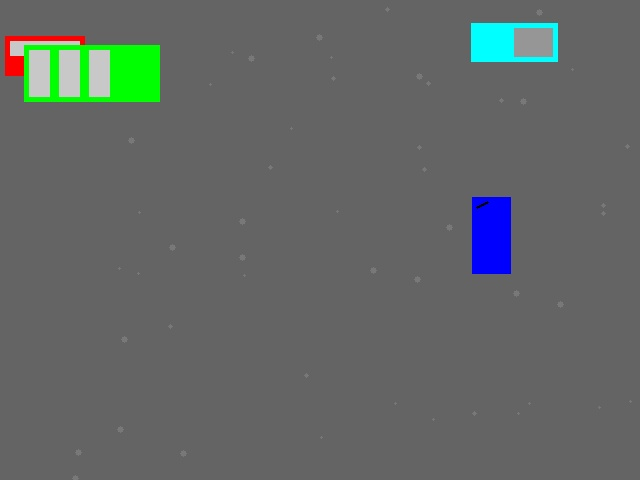bus: (24, 45, 159, 101)
car: (5, 36, 84, 75)
motorcycle: (472, 197, 510, 273)
truck: (471, 23, 557, 61)
